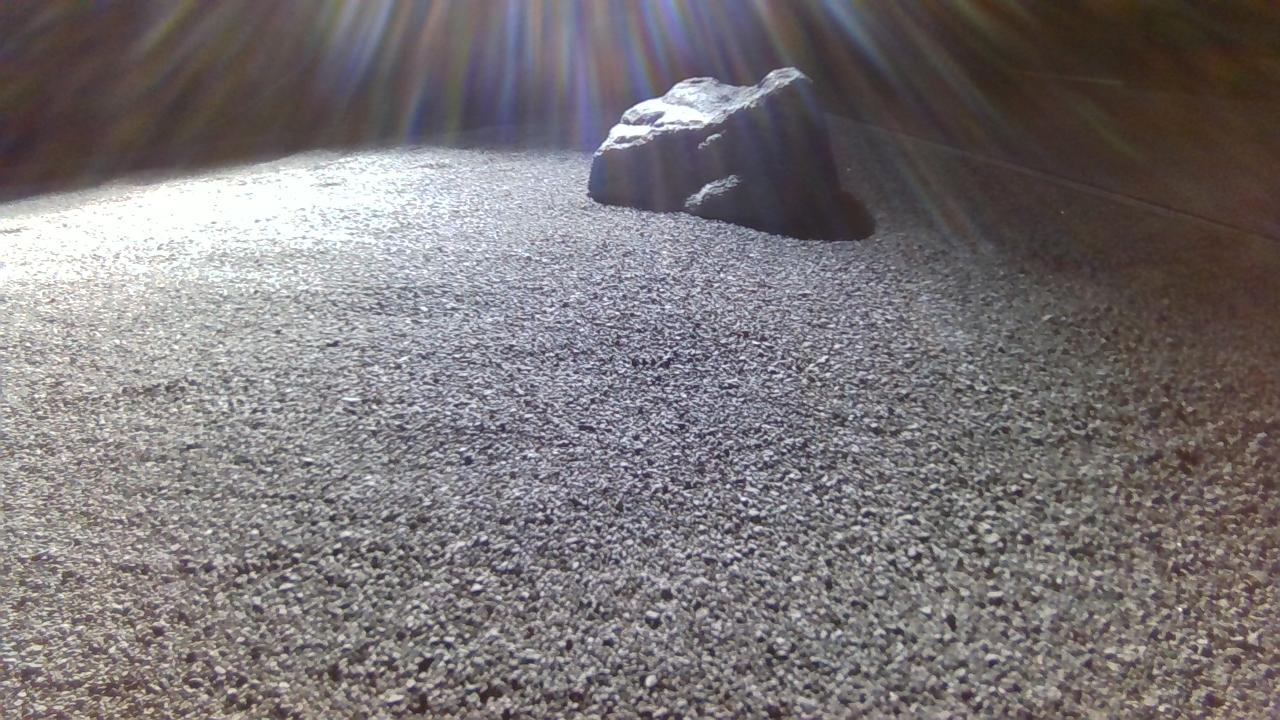rock: (589, 66, 845, 237)
